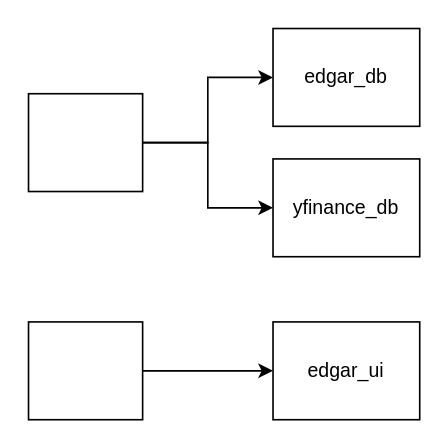
Some shapes in this 448 by 448 pixel diagram are drawn without their labels. The shapes that lost their labels are listed below. From the top down, each one's centre as x and y in pixels, then its label:
the point at 85,142: db
the point at 85,370: ui
